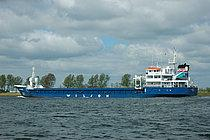Ship: (11, 61, 203, 102)
